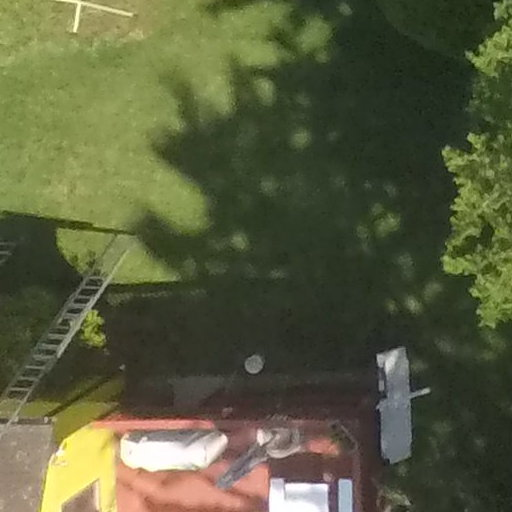container: (241, 349, 268, 374)
